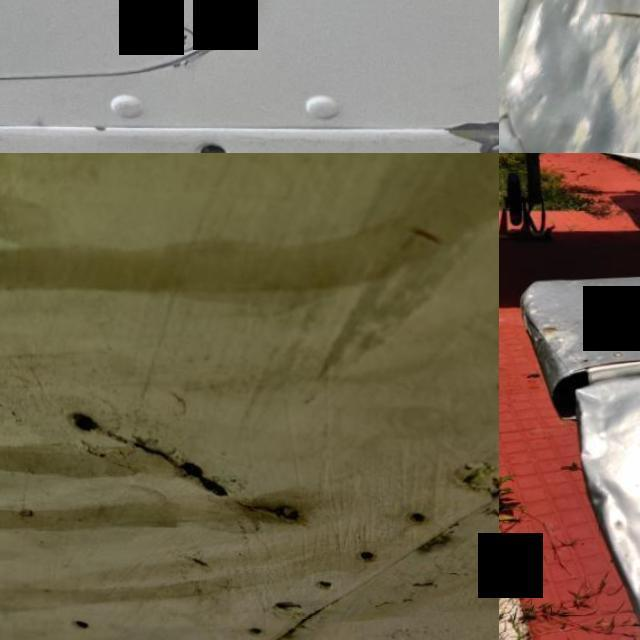Crack: (50, 391, 332, 536), (577, 0, 640, 110)
Dent: (569, 454, 640, 591), (568, 365, 640, 475)
Missing_Fastener: (189, 138, 240, 153)
